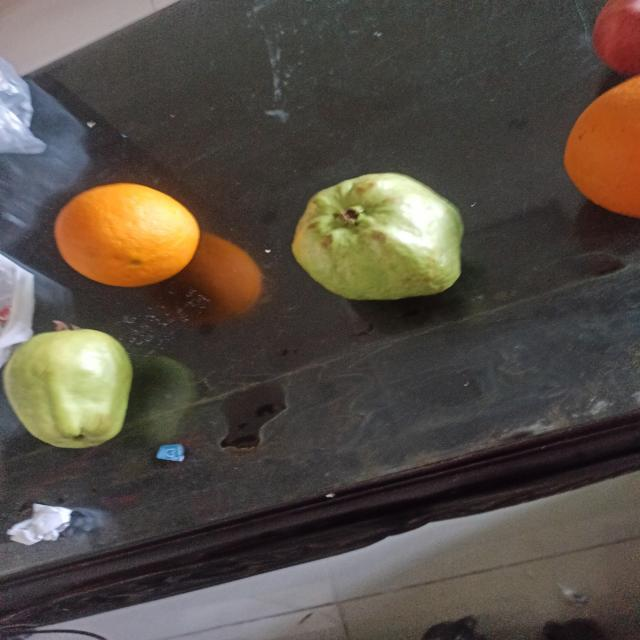apple: (588, 3, 640, 73)
